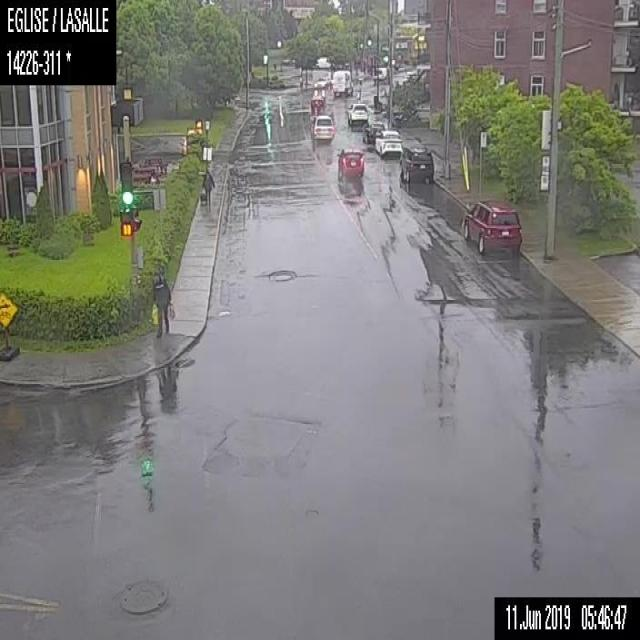pedestrian: (151, 269, 176, 340), (199, 167, 215, 213)
vehicle: (462, 196, 522, 255), (397, 144, 434, 185), (336, 146, 364, 178), (374, 127, 402, 158), (330, 66, 354, 99), (345, 99, 368, 130), (310, 112, 335, 140), (361, 118, 384, 144), (310, 92, 328, 111), (312, 75, 329, 89)
